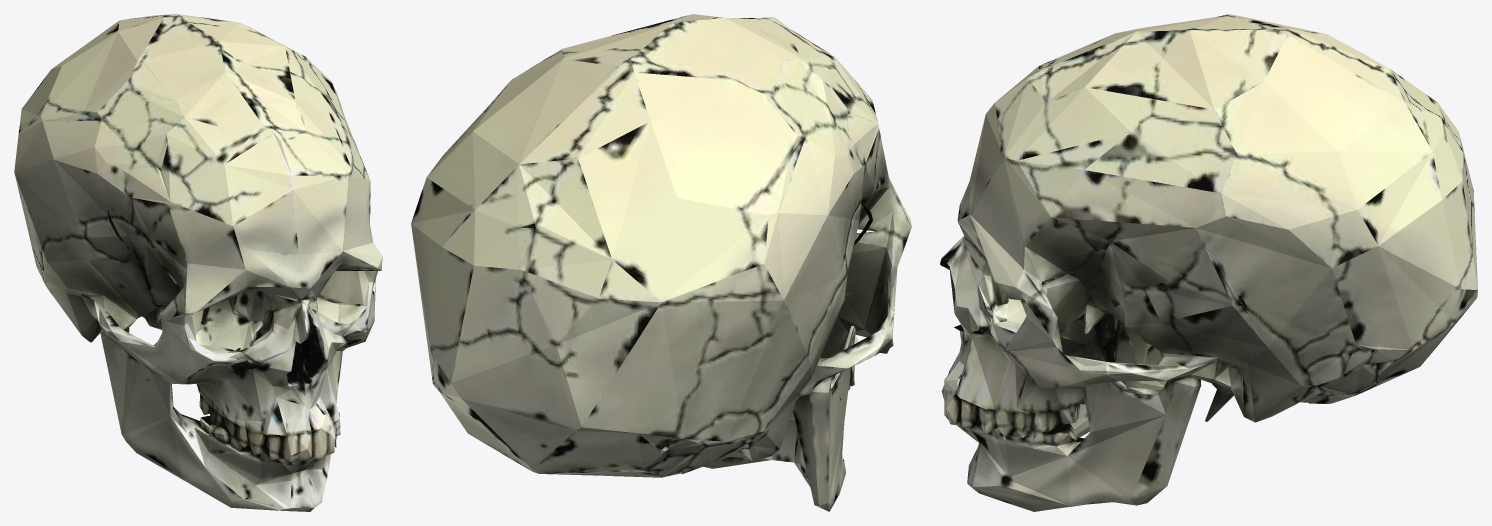
File: combat_skull_01.glb
The picture shows the model from 3 angles, left to right: view 1: azimuth 30°, elevation 25°; view 2: azimuth 150°, elevation 25°; view 3: azimuth 270°, elevation 25°; orthographic projection. The views are drawn at different scales.
Visible parts, largest first — view 1: geometry_0; view 2: geometry_0; view 3: geometry_0.
Boxes of the visible parts, left/top/right/bottom form: geometry_0: left=14, top=14, right=382, bottom=511; geometry_0: left=411, top=14, right=911, bottom=511; geometry_0: left=940, top=14, right=1477, bottom=511.
Size of the model in its own units: 0.6929 by 0.9446 by 0.992.
1 material, 1 textured.
